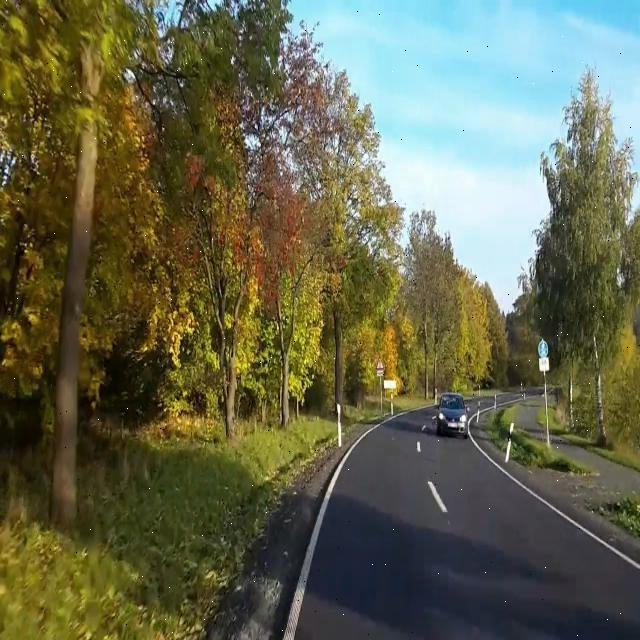lane: (469, 432, 640, 569), (282, 422, 382, 639), (428, 481, 448, 512)
road: (296, 409, 640, 639)
